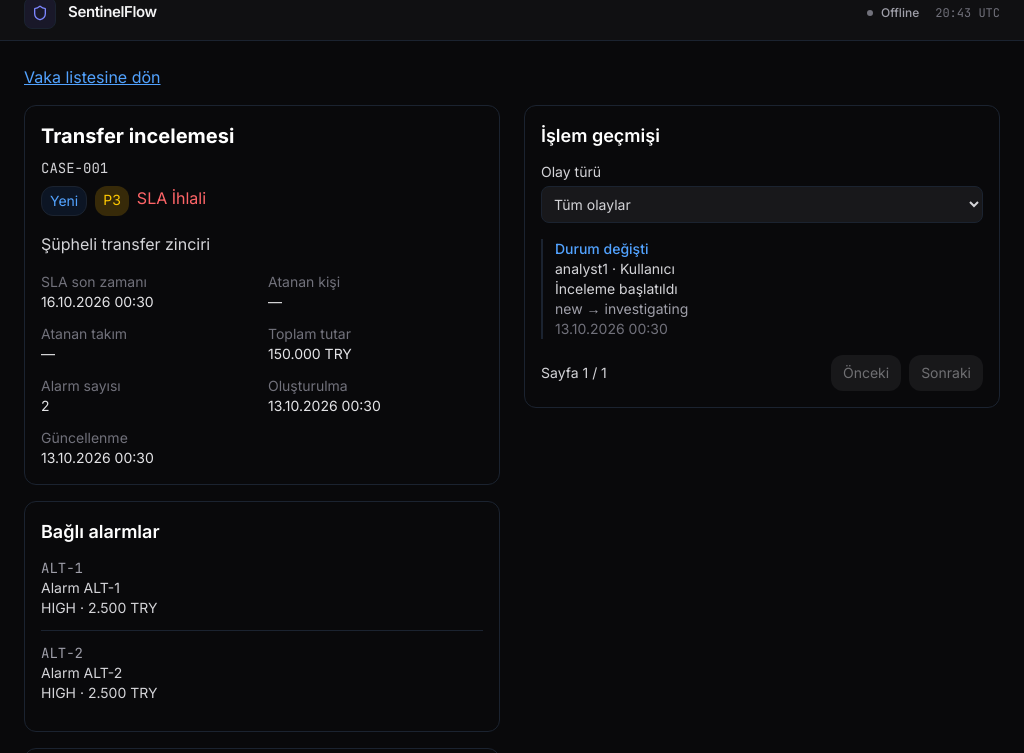
it: Vaka mutasyonları › öncelik PATCH sonrası özeti ve olayları yeniler
The width and height of the screenshot is (1024, 753).
Expected: the heading "Transfer incelemesi" is shown, x1=41 y1=124 x2=234 y2=148
Expected: the text "İnceleme başlatıldı" is shown, x1=555 y1=280 x2=678 y2=297
Select "Not eklendi" in the dropdown labelled "Olay türü" at (762, 204), box x1=541 y1=186 x2=983 y2=223
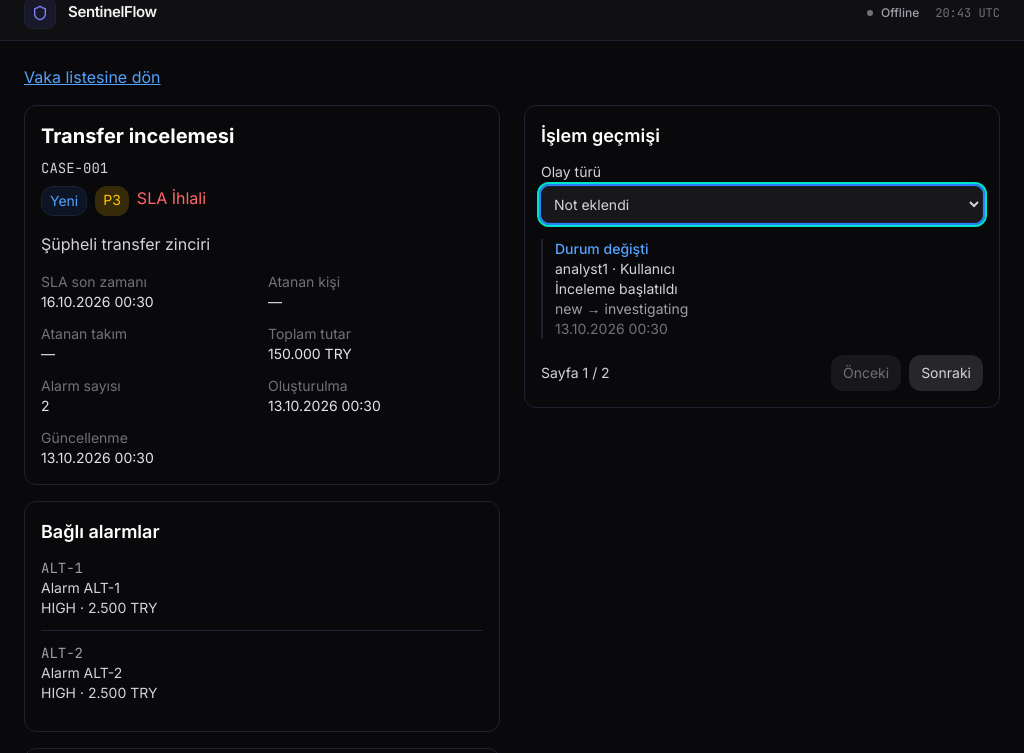
Result: the button "Sonraki" is enabled
Click the button "Sonraki" at (946, 373), box x1=909 y1=355 x2=983 y2=391
(page scrolled)
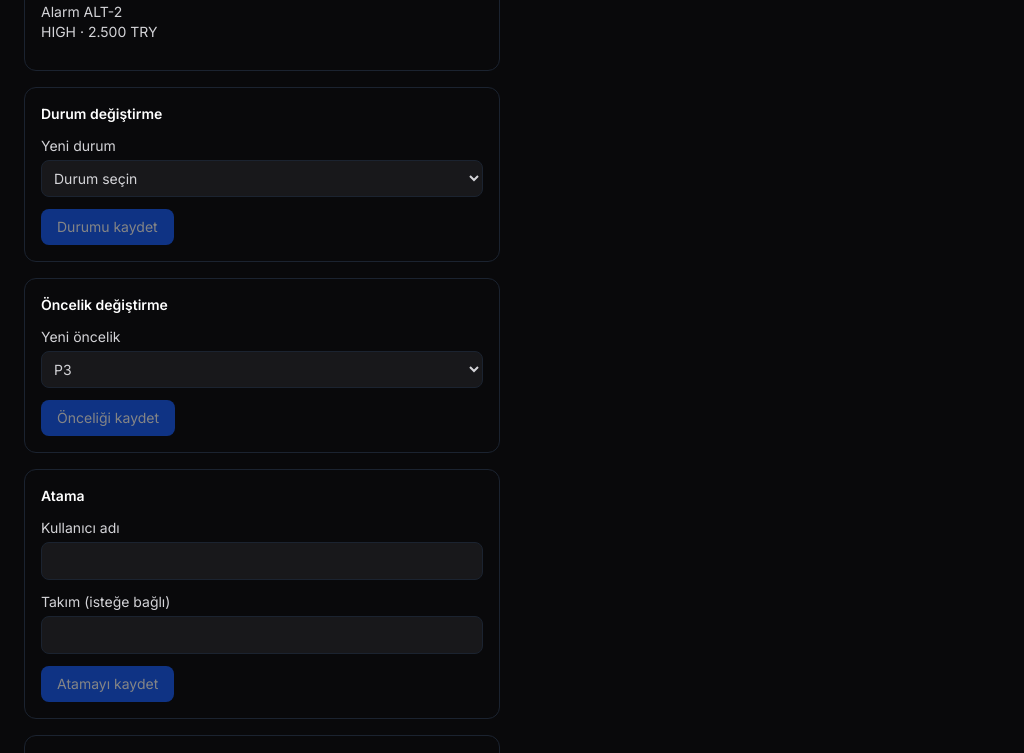
Select "P1" in the dropdown labelled "Yeni öncelik" at (262, 370), box x1=41 y1=351 x2=483 y2=388
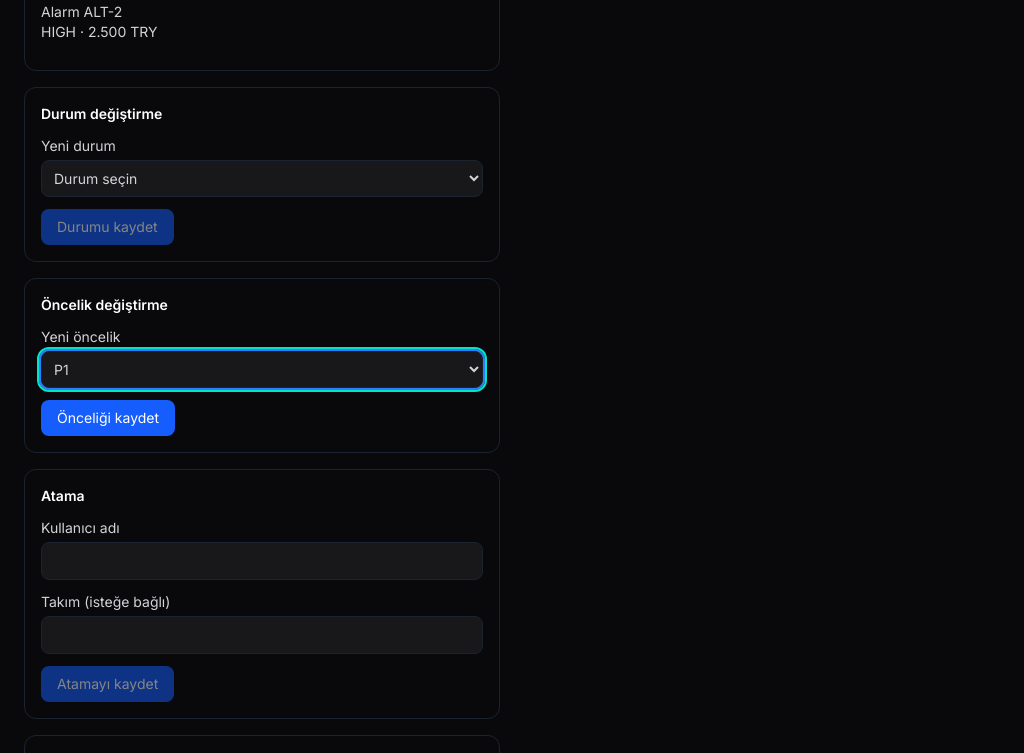
Click the button "Önceliği kaydet" at (108, 418), box x1=41 y1=400 x2=175 y2=436
(page scrolled)
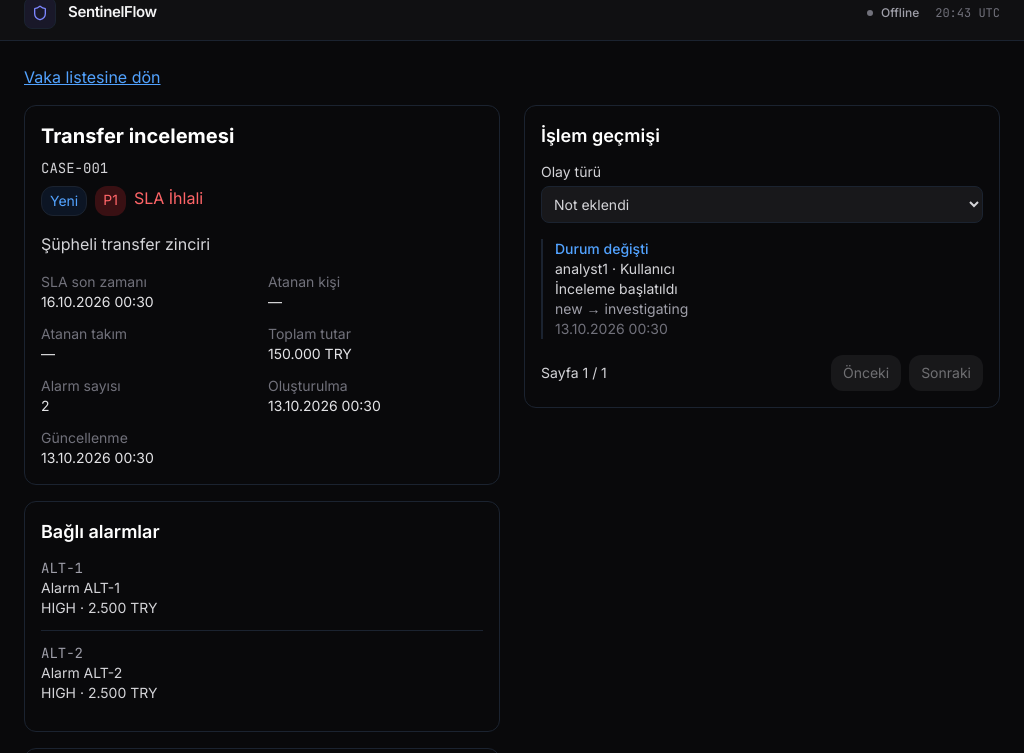
Result: the element "Transfer incelemesi" shows "P1" at x1=103 y1=191 x2=118 y2=208
